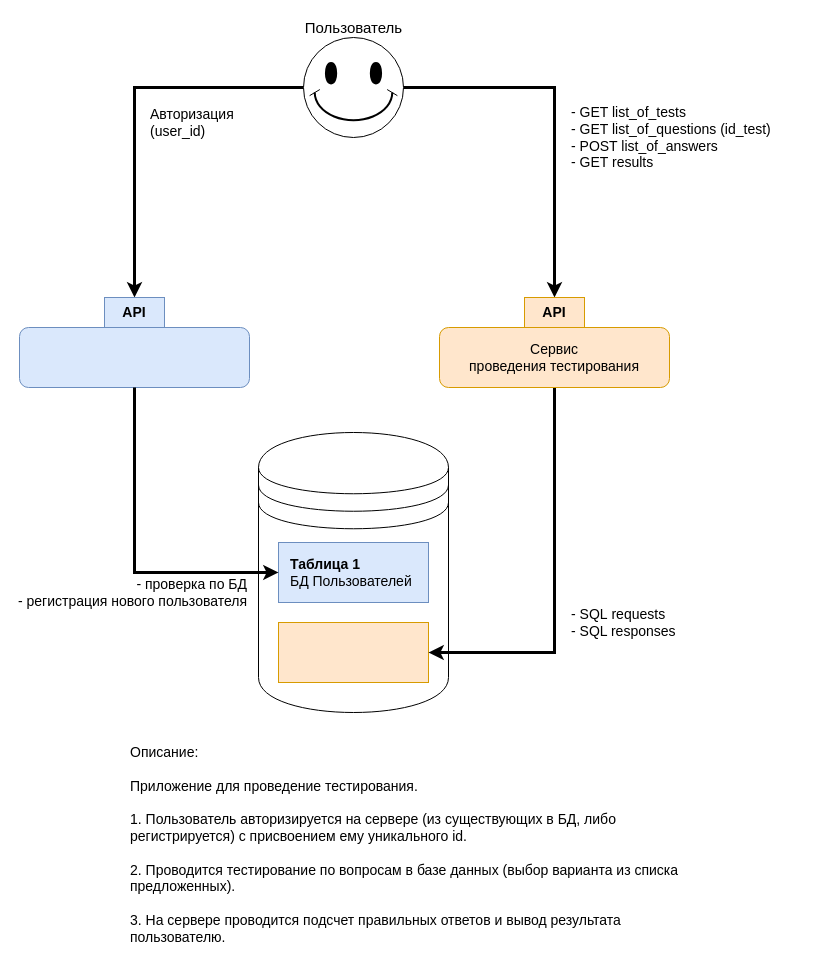
The diagram is 826 pixels wide and 979 high, and some of its shapes have lost their labels. Here are the shapes that lost their labels. From the top down, the centre of each, then its label:
At pixel 134 357: "Сервис авторизации пользователей".
At pixel 353 652: "Таблица 2 БД Тестов".
